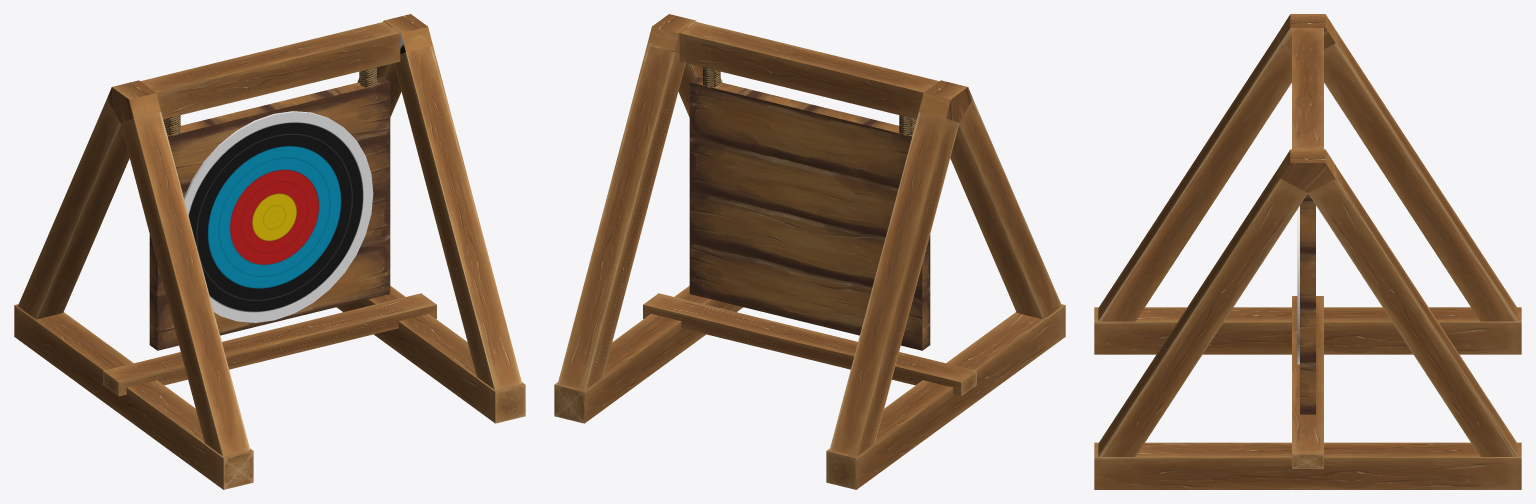
Rendered from archerytarget.fbx.
3 renders of one model, left to right at view 1: azimuth 30°, elevation 25°; view 2: azimuth 150°, elevation 25°; view 3: azimuth 270°, elevation 25°, orthographic. The views are drawn at different scales.
Parts seen in each view (by area): view 1: Cube.003, Cube.004; view 2: Cube.003, Cube.004; view 3: Cube.003, Cube.004.
Part boxes in pixels (x1=…): Cube.003: x1=14, y1=14, x2=525, y2=489; Cube.004: x1=149, y1=67, x2=390, y2=350; Cube.003: x1=554, y1=14, x2=1065, y2=489; Cube.004: x1=689, y1=67, x2=930, y2=350; Cube.003: x1=1094, y1=14, x2=1521, y2=489; Cube.004: x1=1297, y1=193, x2=1315, y2=414.
Bounding box in the file's own units: 211 × 202 × 240.
